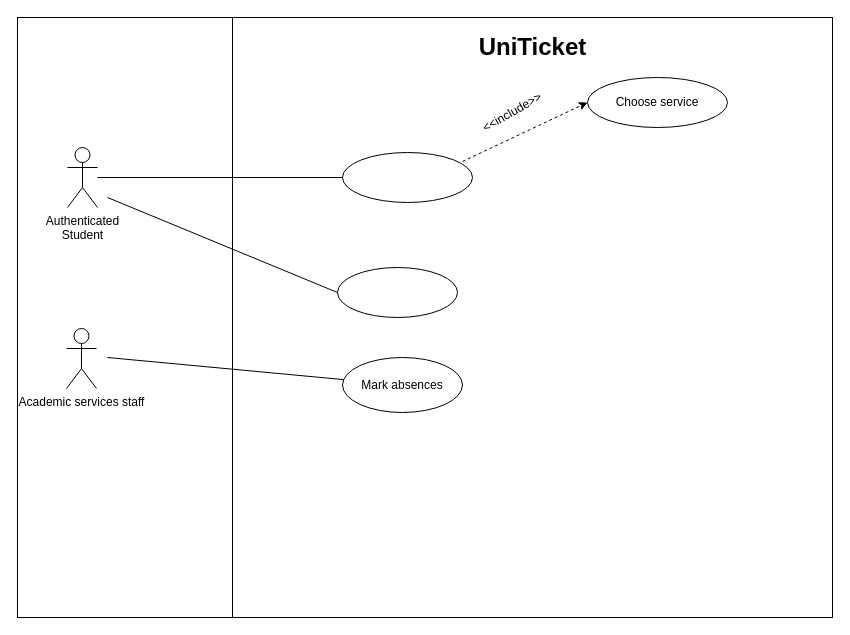
Some shapes in this 850 by 635 pixel diagram are drawn without their labels. The centre of each missing label's shape, as x and y in pixels:
"Cancel the ticket" belongs at point 397,292.
"Take online ticket" belongs at point 407,177.
